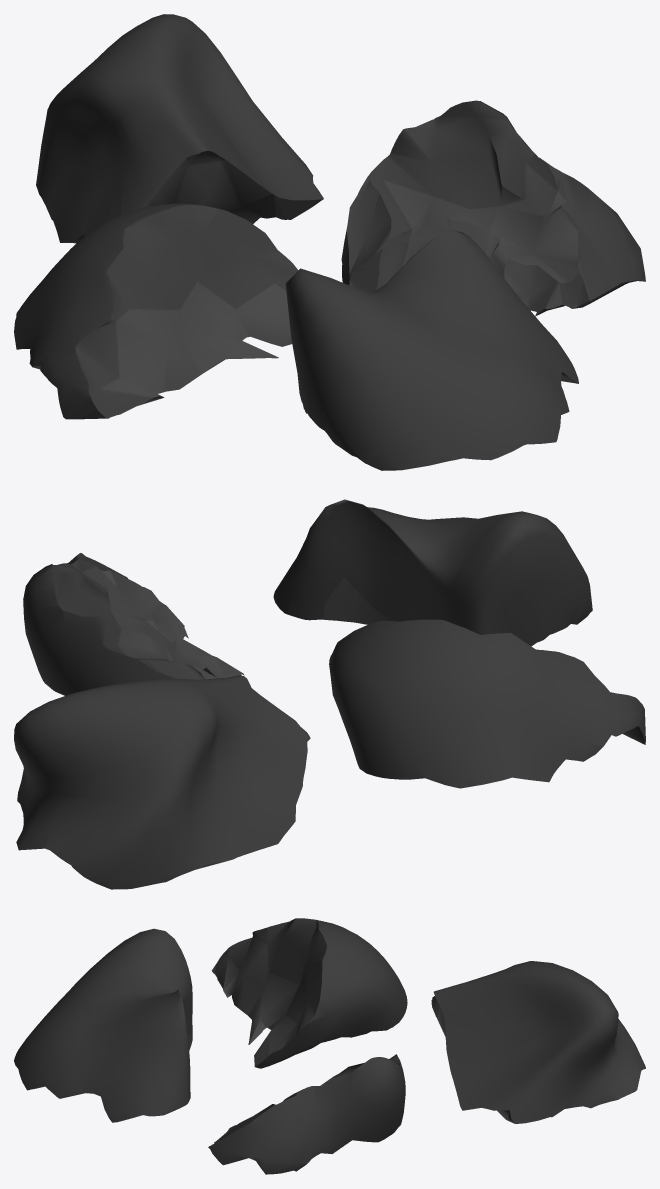
File: Rocks.fbx
3 renders of one model, top to bottom at view 1: azimuth 30°, elevation 25°; view 2: azimuth 150°, elevation 25°; view 3: azimuth 270°, elevation 25°, orthographic. The views are drawn at different scales.
Parts seen in each view (by area): view 1: Rocks; view 2: Rocks; view 3: Rocks.
Boxes of the visible parts, box(x1,y1,x2,y2) form: Rocks: box(14, 14, 645, 470); Rocks: box(14, 499, 645, 889); Rocks: box(14, 918, 645, 1174).
Size of the model in its own units: 50.38 by 14.6 by 65.01.
